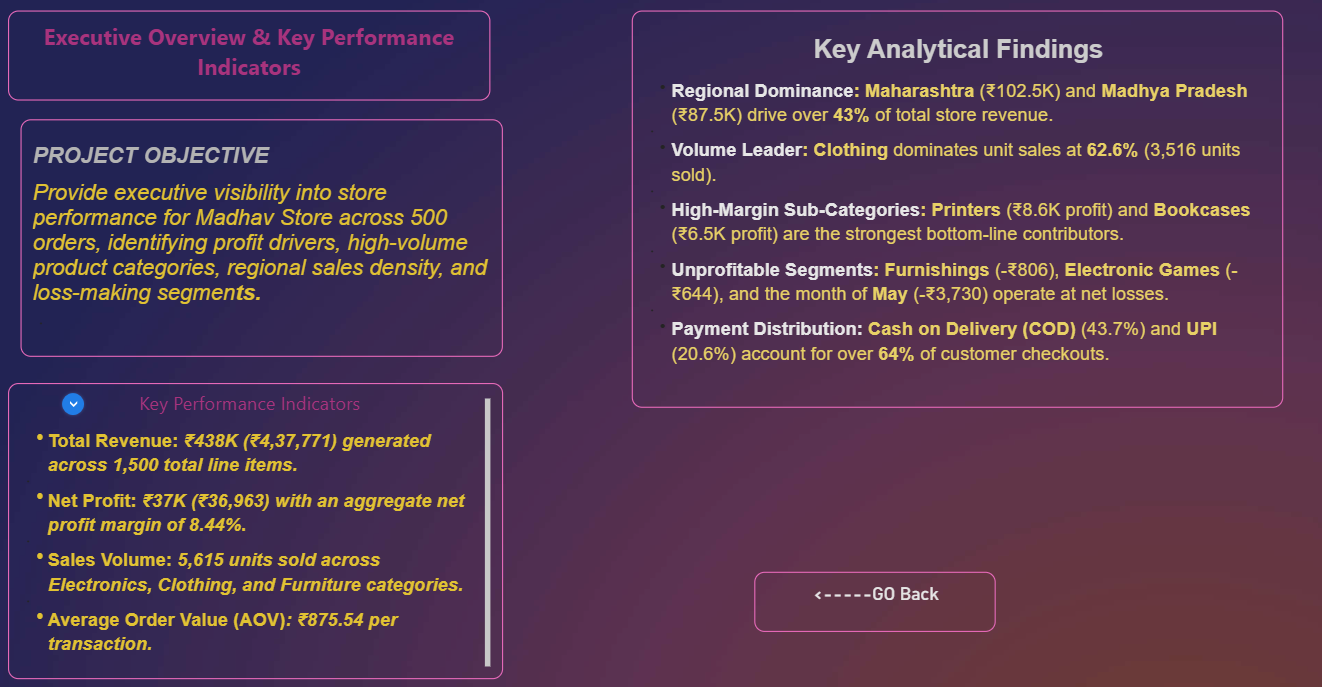

What the dashboard file says about the page in this screenshot:
{"tool":"powerbi","page":{"name":"overall veiw ","canvas":[1920,1080],"ordinal":1},"visuals":[{"type":"textbox","box":[14.5,211.7,698.5,343.8],"z":0},{"type":"textbox","box":[14.5,54.3,698.5,130.3],"z":1},{"type":"textbox","box":[14.5,593.6,716.6,428.9],"z":2},{"type":"textbox","box":[917.5,54.3,942.8,575.5],"z":3},{"type":"actionButton","title":"<-----GO BACK","box":[937.4,895.8,394.5,79.6],"z":4}]}

Visuals, with their boxes on the page's 1920x1080 design canvas (x1, y1, x2, y2). These are canvas units, not pixel positions in the 1322x687 screenshot, which may show the page scaled, cropped or inside an application window:
textbox: x1=14 y1=212 x2=713 y2=556
textbox: x1=14 y1=54 x2=713 y2=185
textbox: x1=14 y1=594 x2=731 y2=1022
textbox: x1=918 y1=54 x2=1860 y2=630
"<-----GO BACK" actionButton: x1=937 y1=896 x2=1332 y2=975
